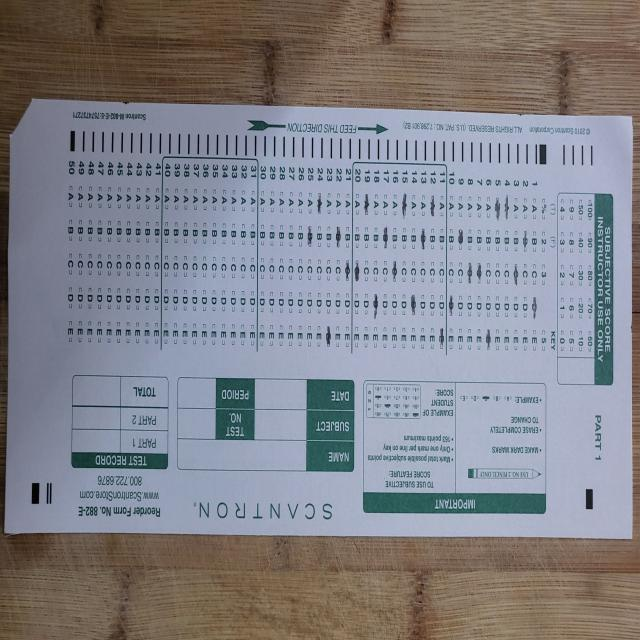scantron: (4, 97, 633, 538)
